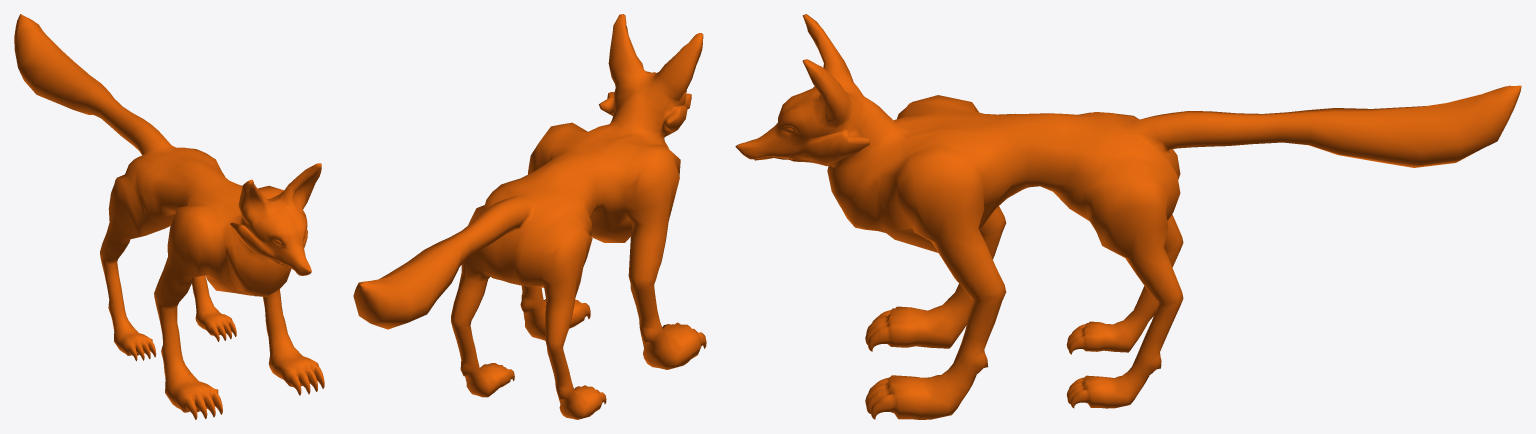
The model's file is renard.fbx.
The picture shows the model from 3 angles, left to right: view 1: azimuth 30°, elevation 25°; view 2: azimuth 150°, elevation 25°; view 3: azimuth 270°, elevation 25°; orthographic projection. The views are drawn at different scales.
Visible parts, largest first — view 1: renard; view 2: renard; view 3: renard.
Boxes of the visible parts, x1=… form: renard: x1=14, y1=14, x2=324, y2=419; renard: x1=353, y1=14, x2=706, y2=419; renard: x1=735, y1=14, x2=1521, y2=419.
Bounding box in the file's own units: 397 × 680 × 1420.
